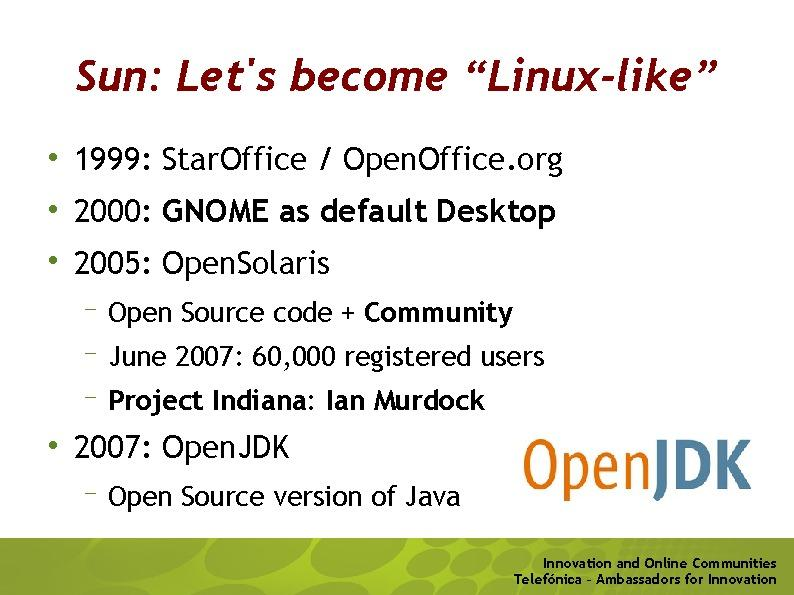paragraph: (33, 132, 577, 520)
subtitle: (509, 545, 793, 595)
title: (70, 41, 727, 116)
